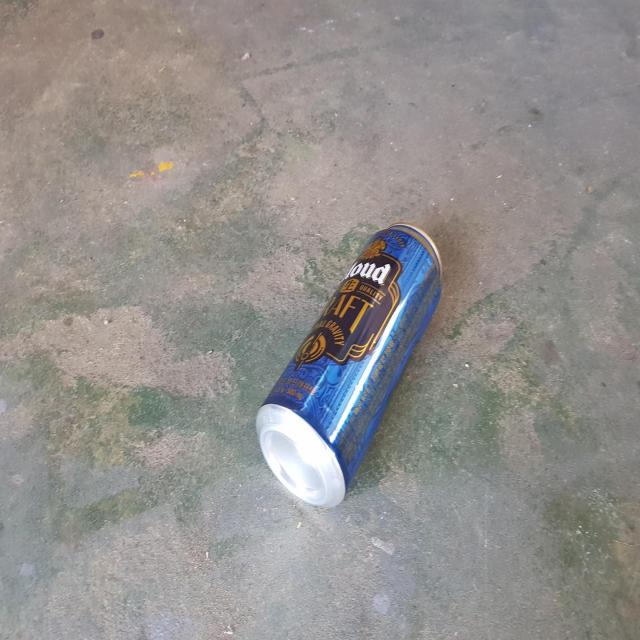can: (256, 222, 442, 508)
